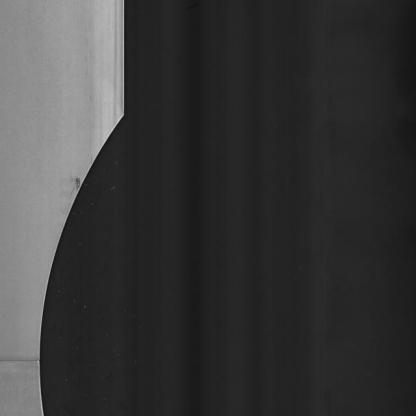crescent_gap: (35, 106, 139, 416)
welding_line: (0, 348, 54, 381)
